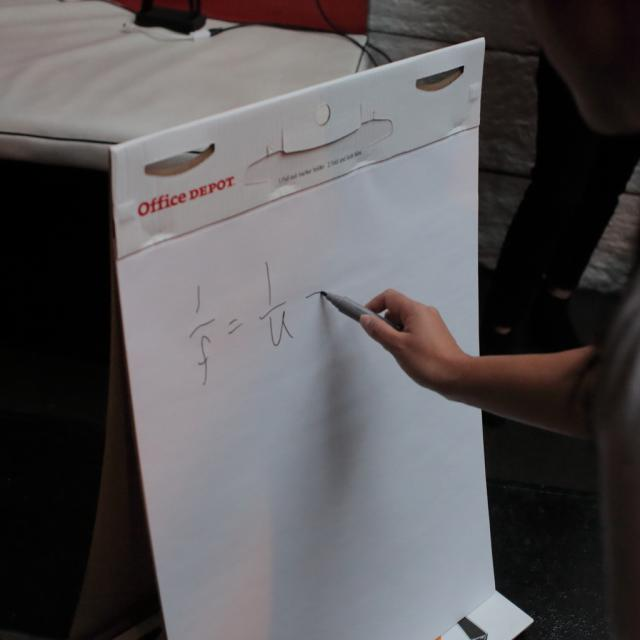pen: (318, 291, 394, 340)
